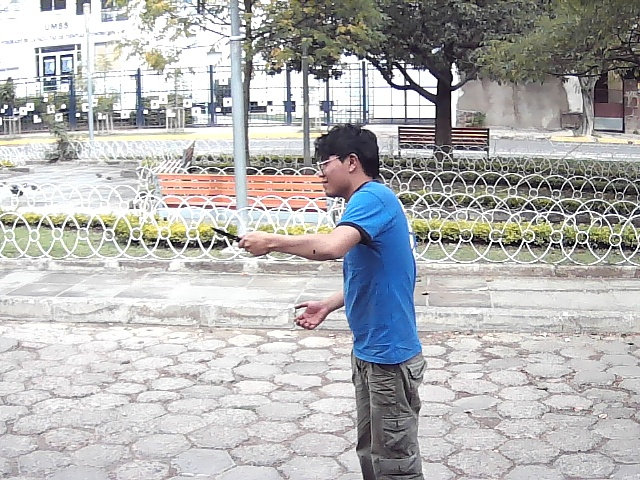cuchillo: (204, 220, 274, 257)
